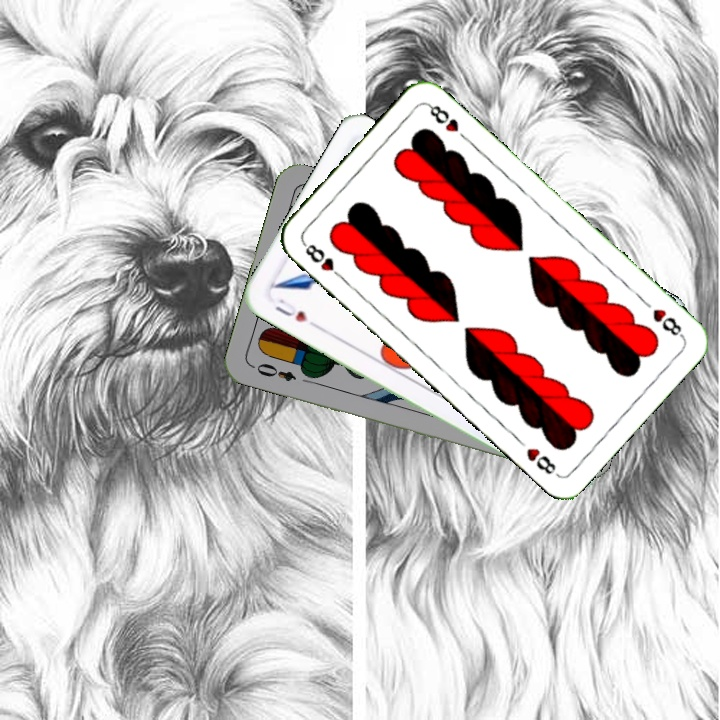EO: (247, 359, 299, 384)
H8: (298, 238, 347, 283), (648, 304, 687, 340)
HU: (271, 294, 311, 325)
